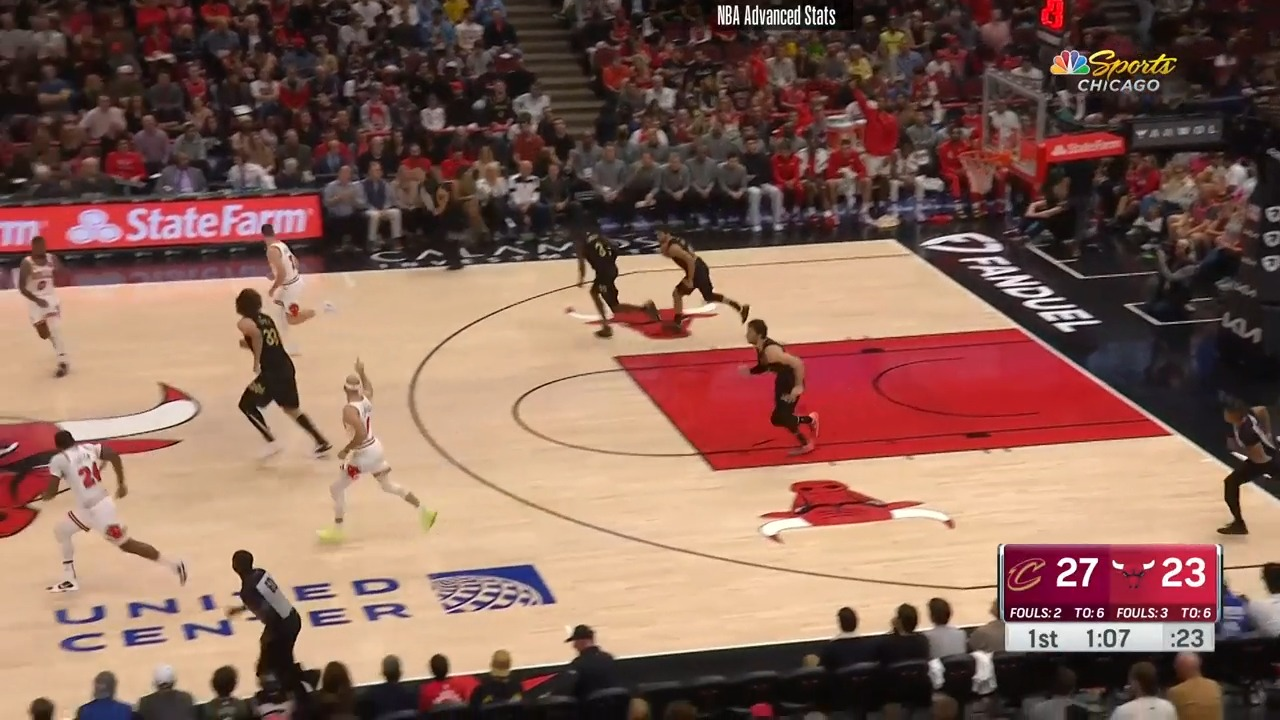net: (946, 146, 1020, 198)
player: (27, 420, 182, 598), (318, 362, 430, 546), (227, 290, 340, 462), (556, 205, 662, 348), (0, 237, 79, 381), (645, 229, 756, 330), (737, 319, 813, 457), (256, 220, 309, 323)
referee: (224, 550, 312, 691), (1209, 385, 1280, 539)
